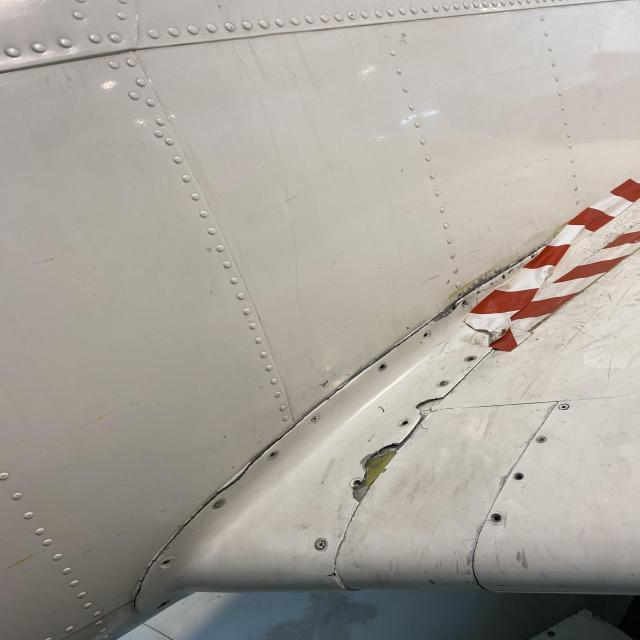Crack: (343, 442, 408, 506), (214, 458, 266, 494), (430, 299, 464, 329), (413, 396, 449, 419), (313, 568, 338, 580)
Missing_Fastener: (158, 556, 176, 570), (490, 511, 504, 527), (375, 362, 392, 374), (511, 471, 526, 484), (398, 417, 412, 429), (463, 353, 478, 363), (420, 330, 432, 342), (268, 452, 280, 464)
